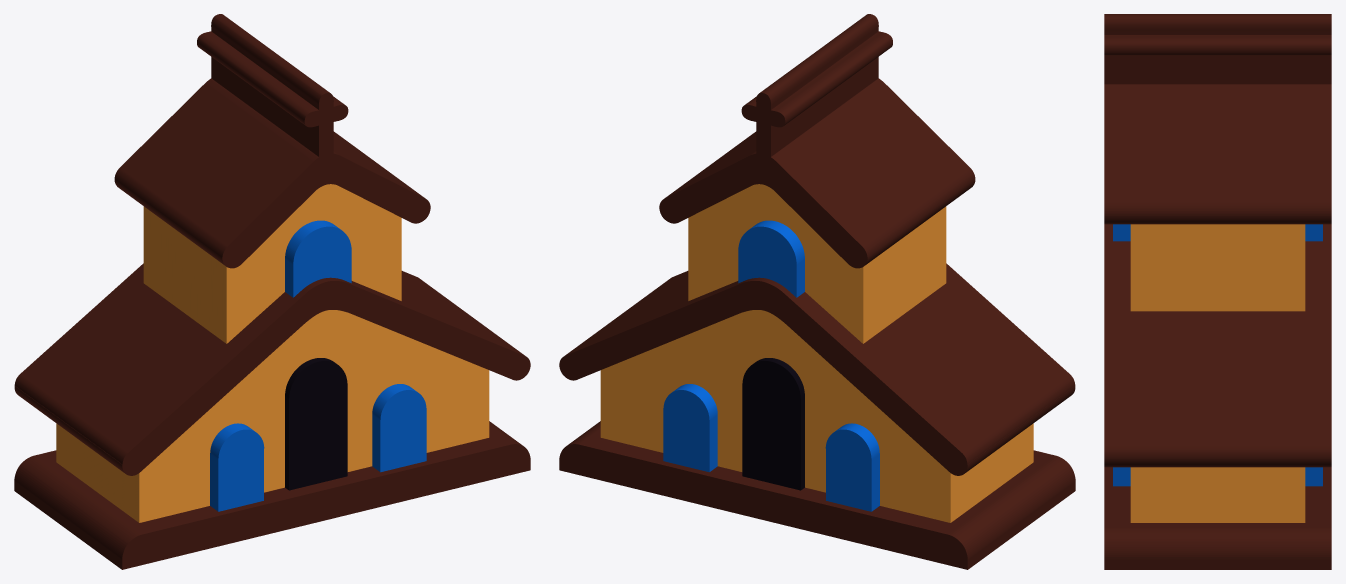
3 renders of one model, left to right at view 1: azimuth 30°, elevation 25°; view 2: azimuth 150°, elevation 25°; view 3: azimuth 270°, elevation 25°, orthographic. The views are drawn at different scales.
Parts seen in each view (by area): view 1: U+26EA_layer03_obj00, U+26EA_layer00_obj00, U+26EA_layer02_obj00, U+26EA_layer01_obj00; view 2: U+26EA_layer03_obj00, U+26EA_layer00_obj00, U+26EA_layer02_obj00, U+26EA_layer01_obj00; view 3: U+26EA_layer03_obj00, U+26EA_layer00_obj00, U+26EA_layer02_obj00.
Part boxes in pixels (x1,y1,x2,y2): U+26EA_layer03_obj00: [14, 14, 530, 569]; U+26EA_layer00_obj00: [56, 184, 489, 522]; U+26EA_layer02_obj00: [210, 220, 426, 511]; U+26EA_layer01_obj00: [285, 358, 347, 490]; U+26EA_layer03_obj00: [559, 14, 1075, 569]; U+26EA_layer00_obj00: [600, 184, 1033, 522]; U+26EA_layer02_obj00: [663, 220, 879, 511]; U+26EA_layer01_obj00: [742, 358, 804, 490]; U+26EA_layer03_obj00: [1104, 14, 1331, 569]; U+26EA_layer00_obj00: [1130, 224, 1305, 522]; U+26EA_layer02_obj00: [1113, 224, 1322, 486].
Bounding box in the file's own units: 0.5684 × 0.5677 × 0.26.
